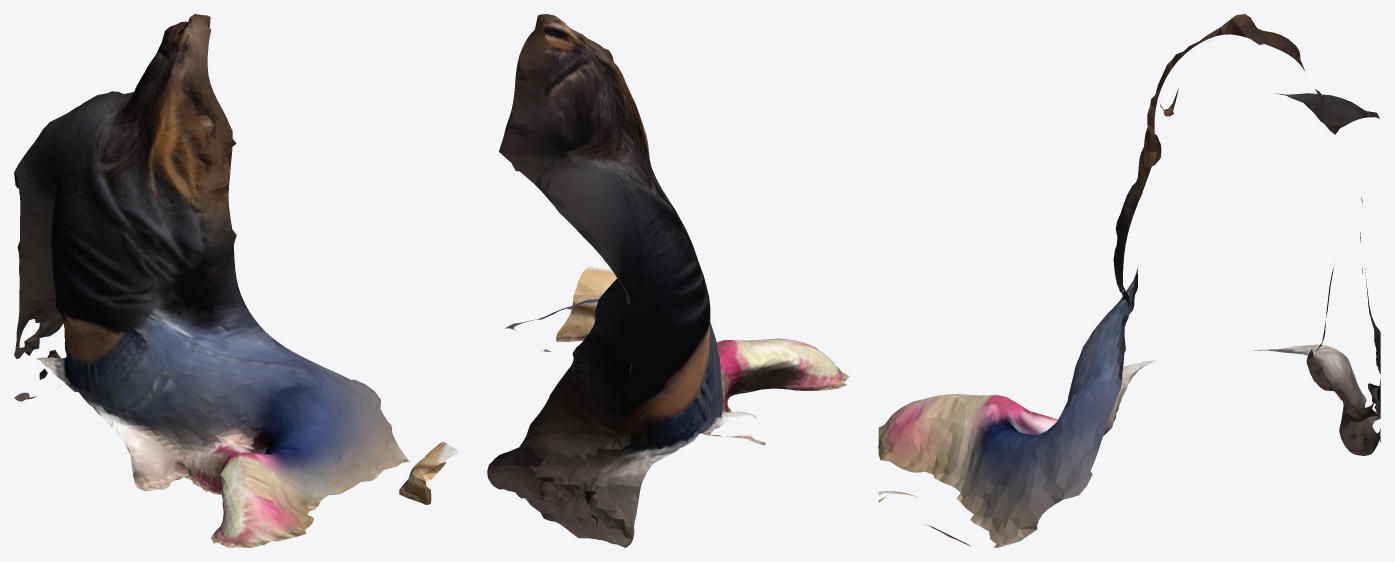
3 views of the same model, side by side, from view 1: azimuth 30°, elevation 25°; view 2: azimuth 150°, elevation 25°; view 3: azimuth 270°, elevation 25° (orthographic). The views are drawn at different scales.
Bounding box in the file's own units: 0.5327 × 0.8624 × 0.8369.
Materials: 1 (1 with a texture image).
